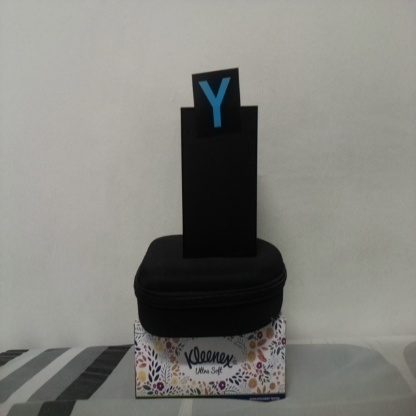id_14: (193, 73, 241, 136)
